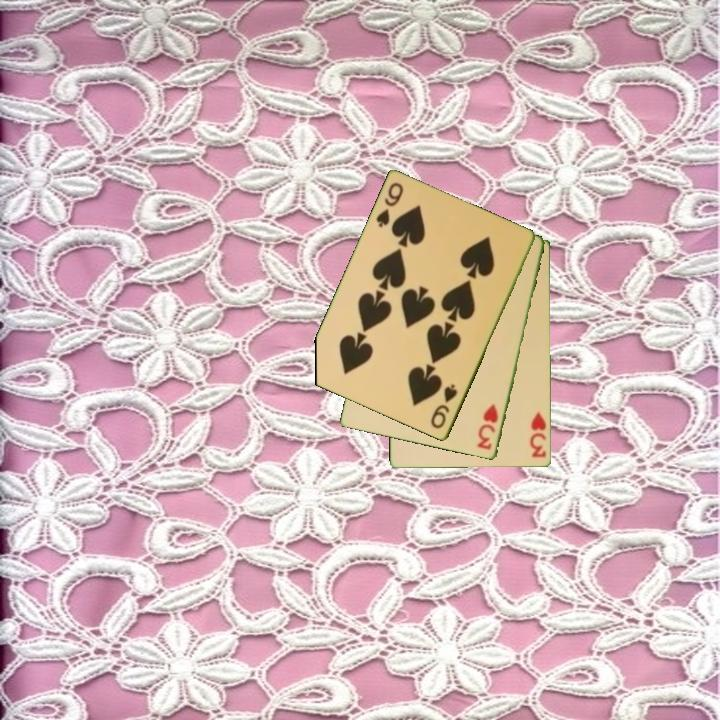3h: (474, 401, 501, 453), (527, 409, 549, 461)
9s: (372, 179, 406, 231), (427, 381, 461, 432)
